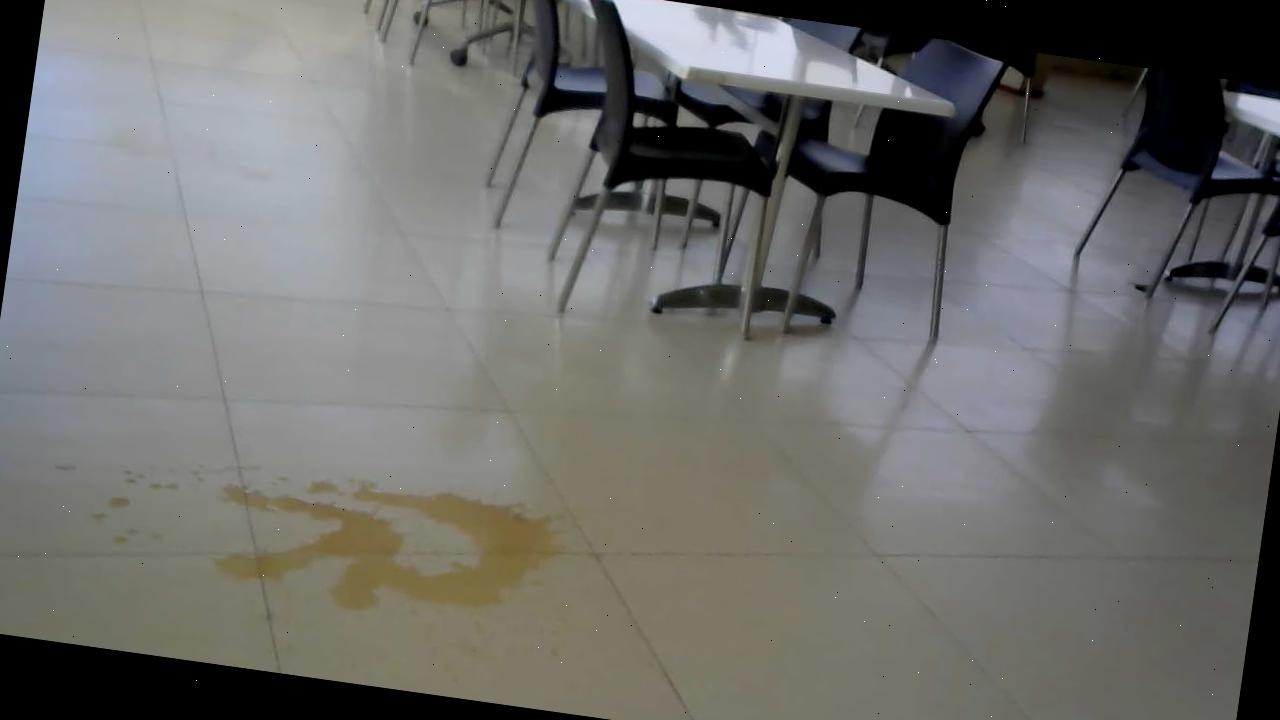dirty_floor: (39, 392, 624, 668)
